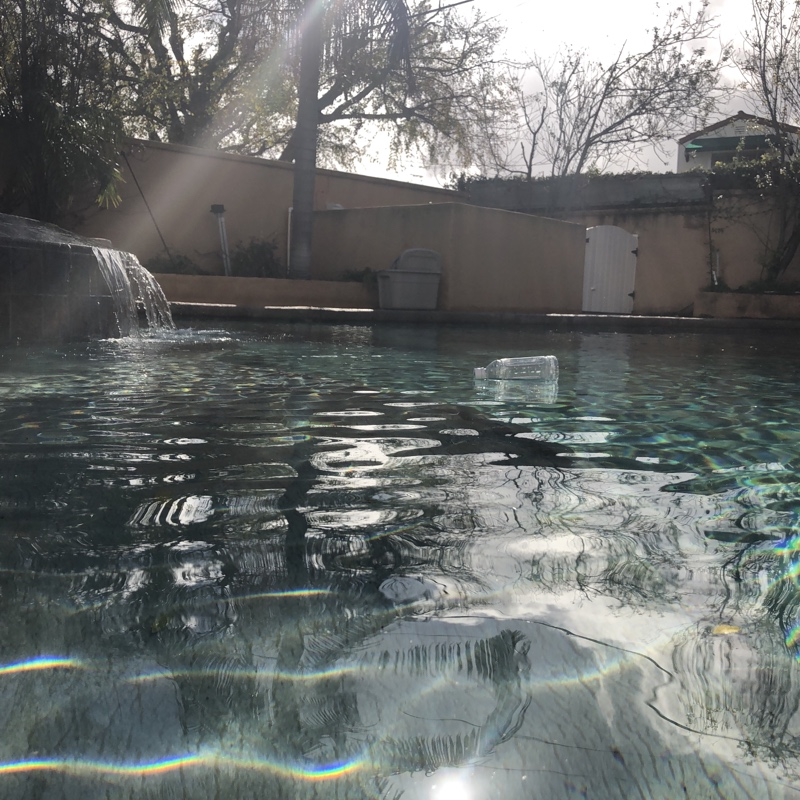Plastic Bottle: (471, 347, 562, 400)
